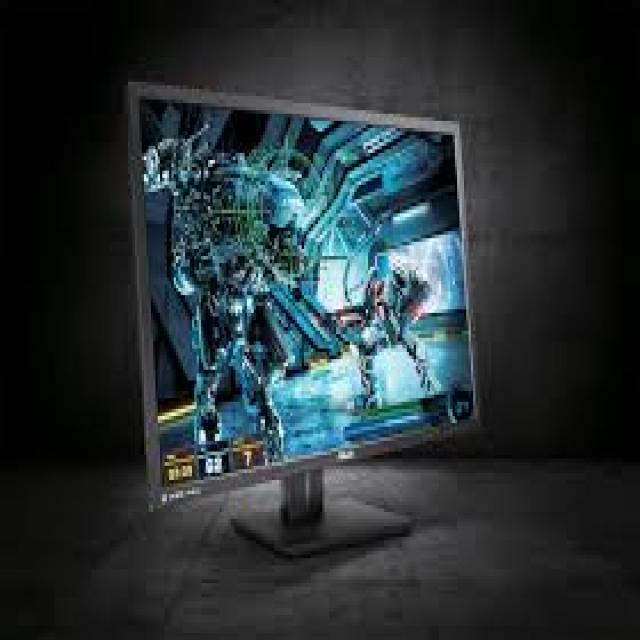komputer: (123, 85, 479, 562)
